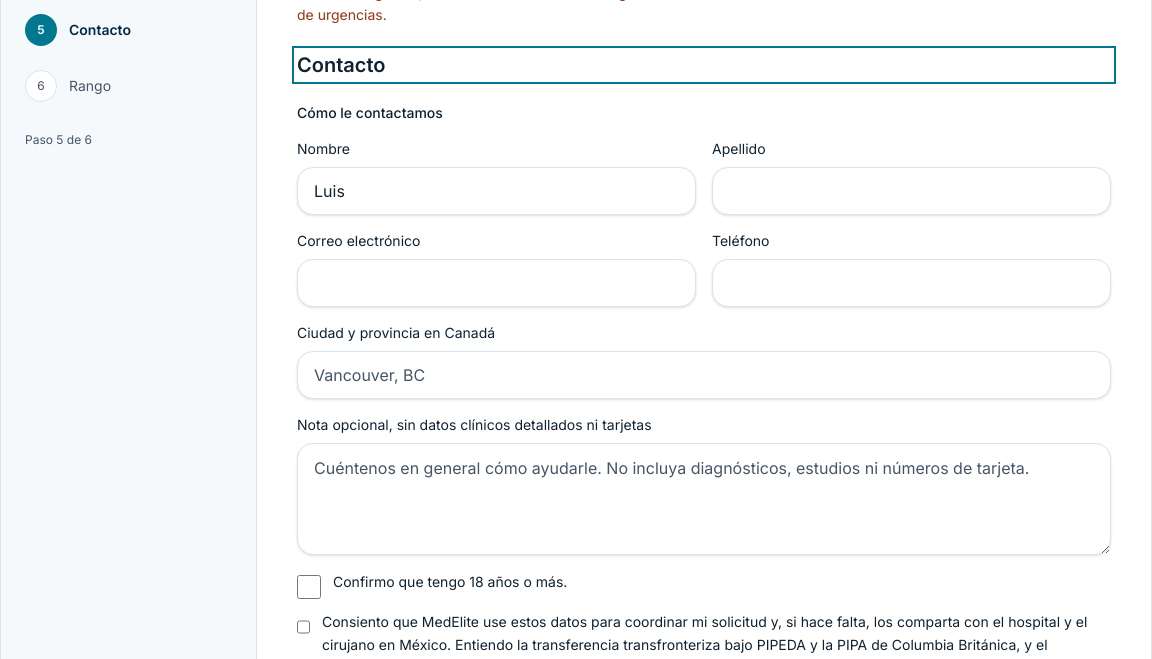
Test: QuoteWizard › refuses to continue without consent
Earlier steps of the test are not shown.
(page scrolled)
Type "Martín" into the field labelled "Apellido".
click(912, 191); type("Martín")  # box [712,167,1111,215]
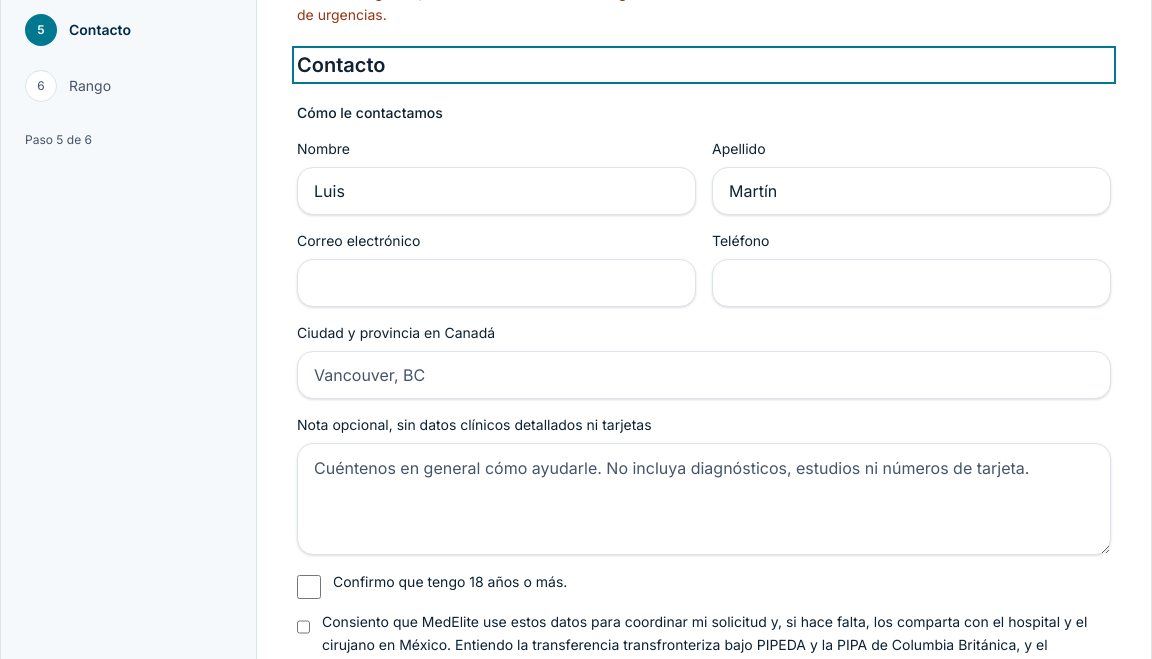
Type "luis@example.com" into the field labelled "Correo electrónico".
click(496, 283); type("luis@example.com")  # box [297,259,696,307]
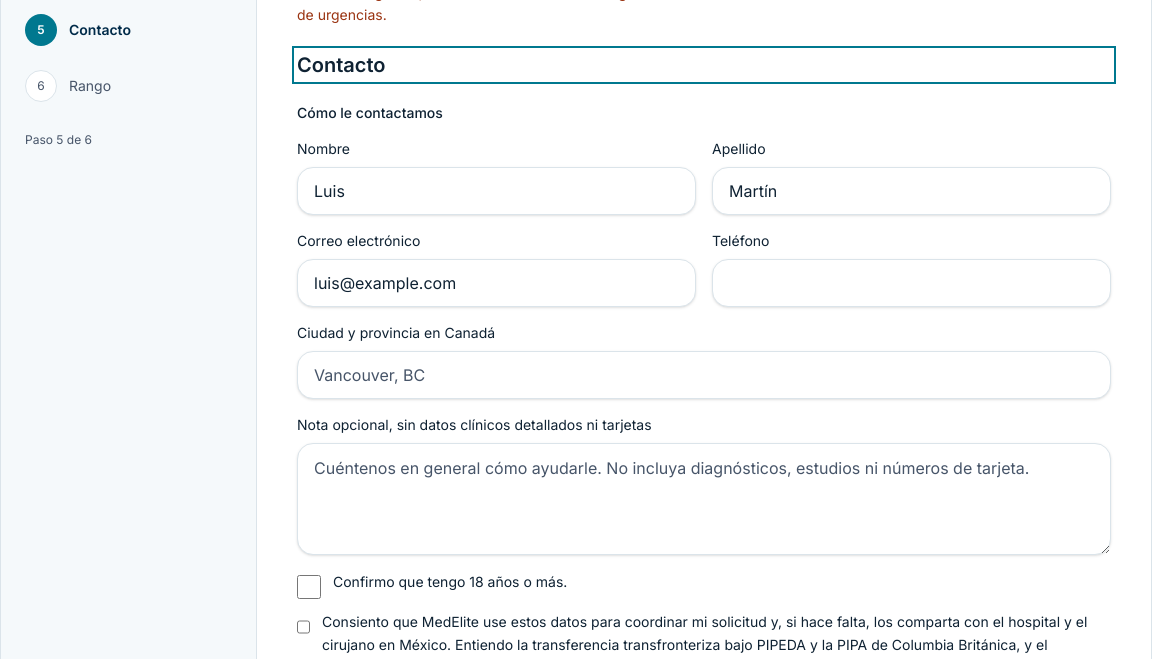
Type "+1 604 555 0199" into the field labelled "Teléfono".
click(912, 283); type("+1 604 555 0199")  # box [712,259,1111,307]
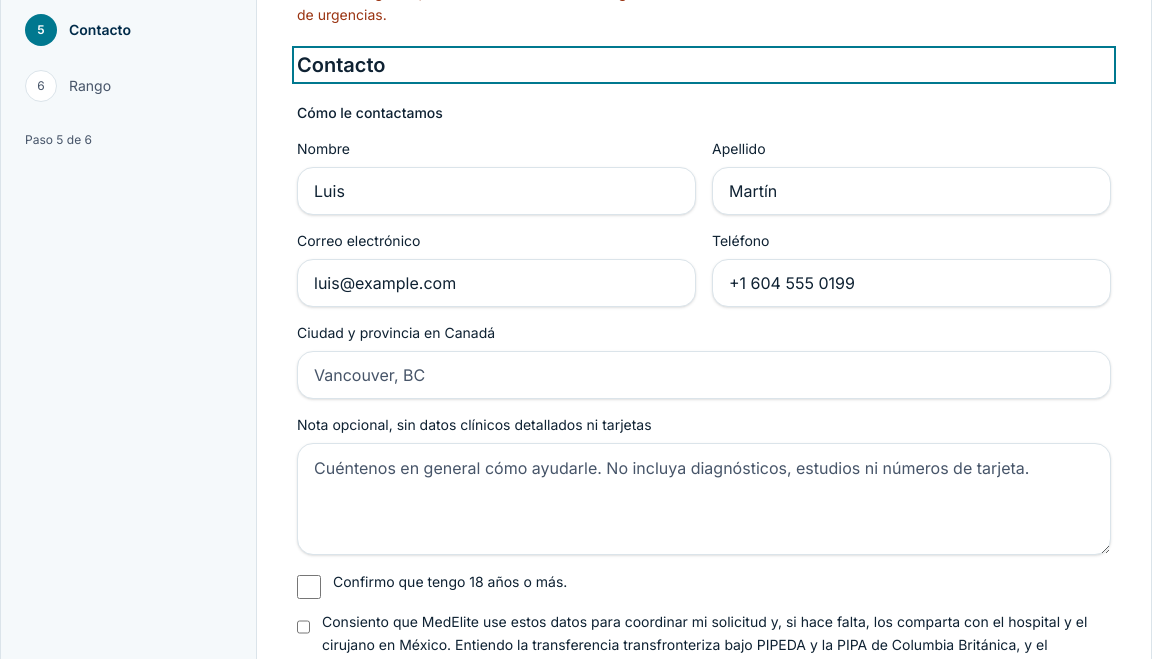
Type "Victoria, BC" into the field labelled "Ciudad y provincia en Canadá".
click(704, 375); type("Victoria, BC")  # box [297,351,1111,399]
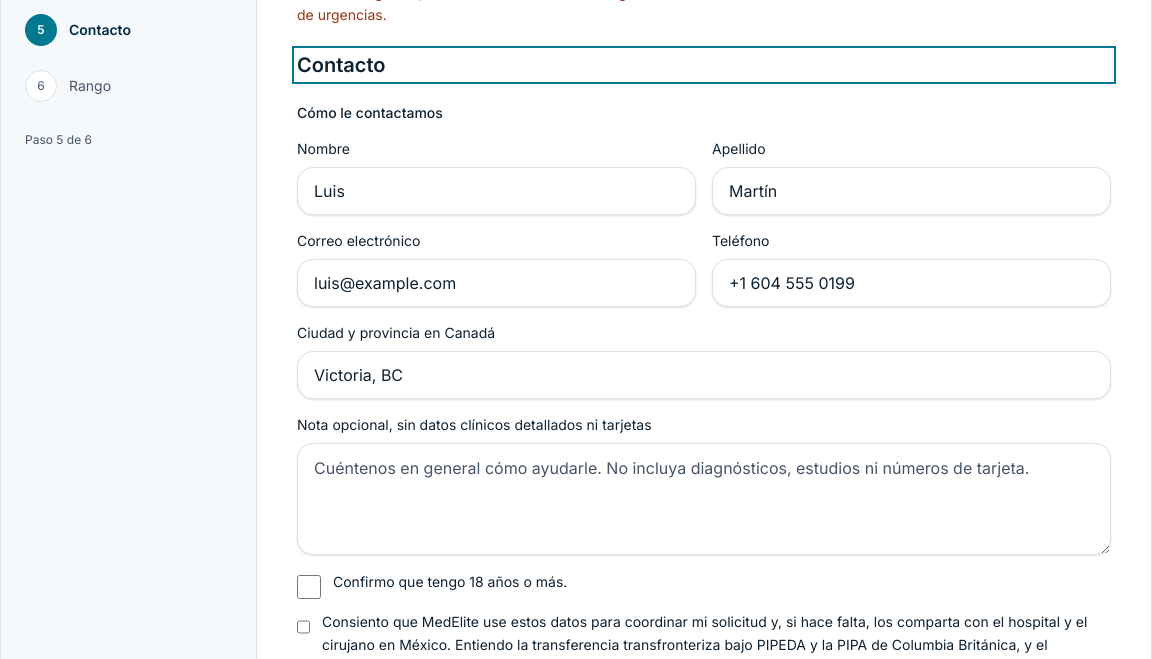
Click the checkbox labelled "Confirmo que tengo 18 años o más.".
click(309, 587)  # box [297,575,321,599]
(page scrolled)
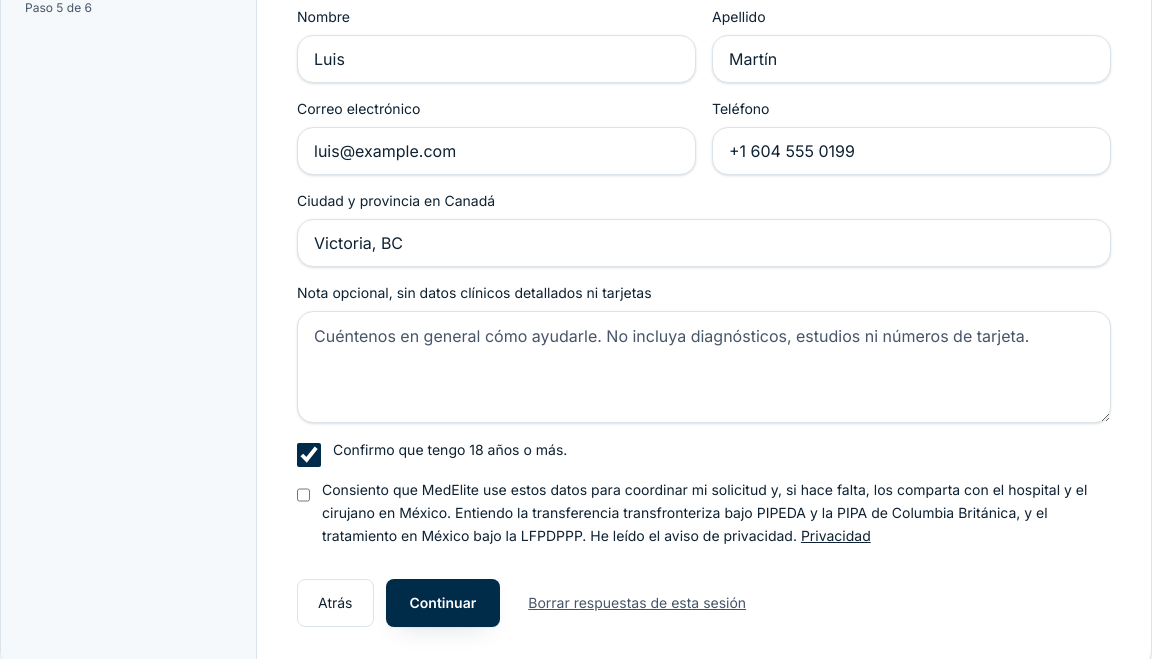
Click the button "Continuar".
click(443, 603)  # box [386,579,500,627]
(page scrolled)
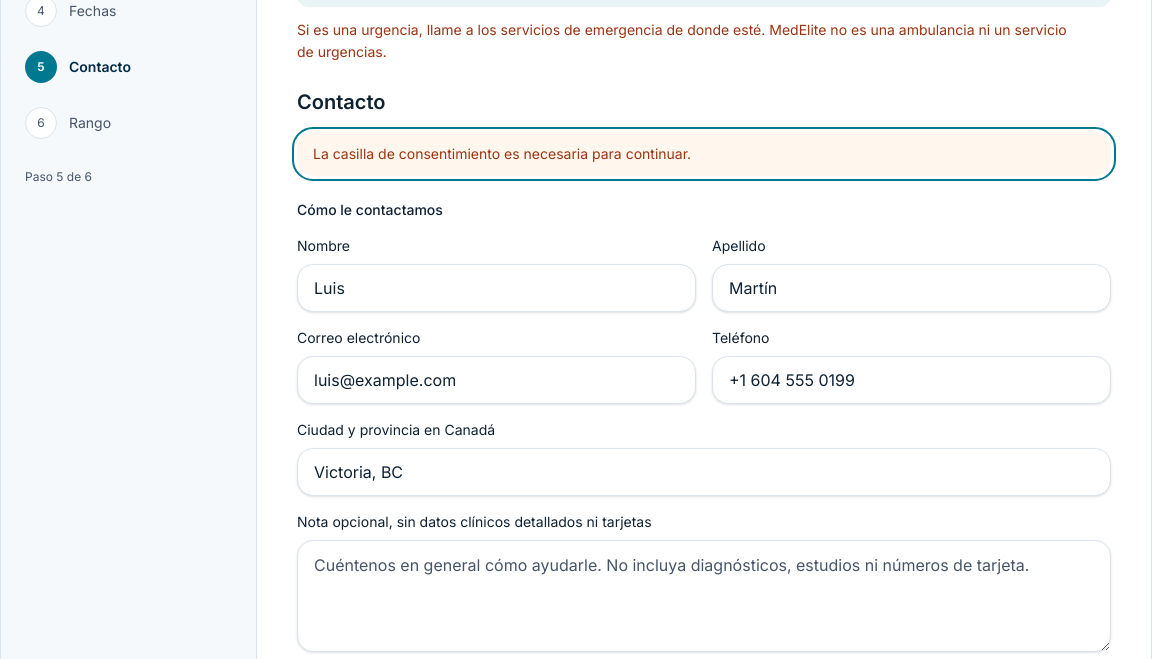
Check: the message shows "consentimiento", box [313,145,691,162]
